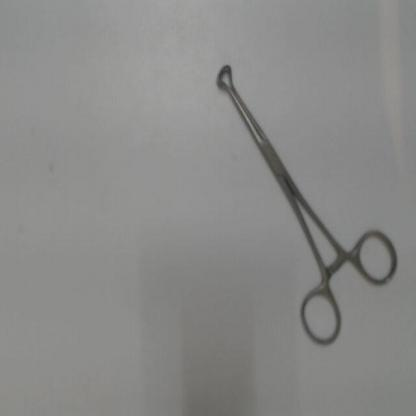Babcock Tissue Forceps: (212, 59, 403, 351)
